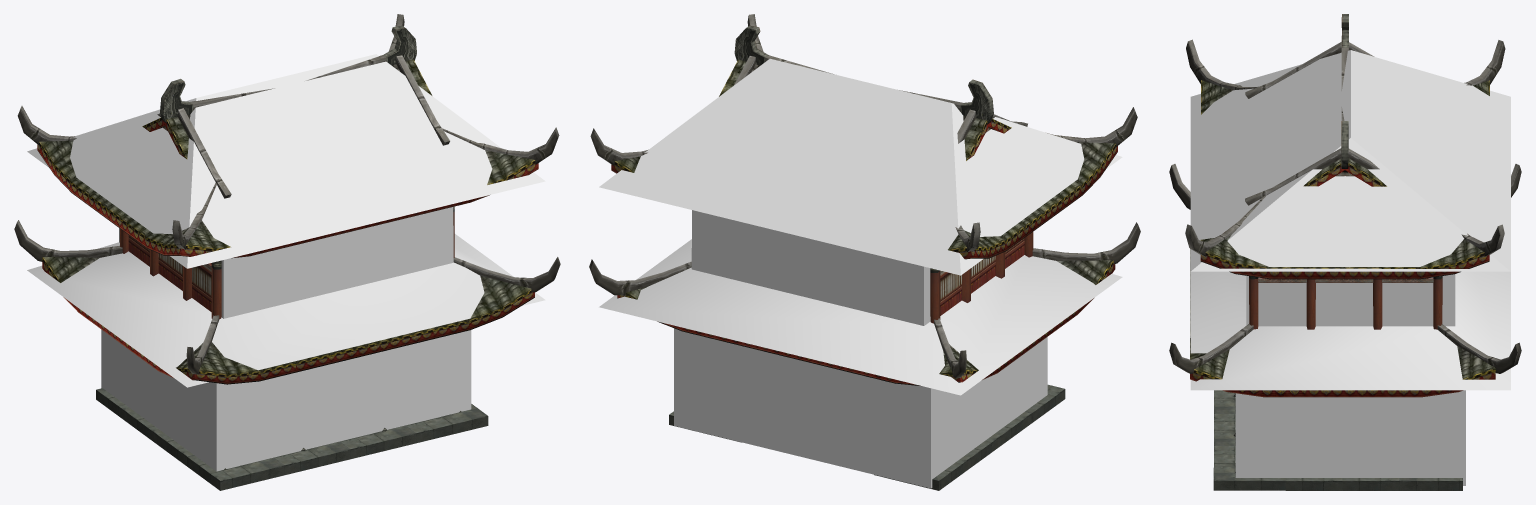
The model's file is YHJ_jiulou.FBX.
The picture shows the model from 3 angles, left to right: view 1: azimuth 30°, elevation 25°; view 2: azimuth 150°, elevation 25°; view 3: azimuth 270°, elevation 25°; orthographic projection.
Parts seen in each view (by area): view 1: YHJ_jiulou-col, YHJ_jiulou; view 2: YHJ_jiulou-col, YHJ_jiulou; view 3: YHJ_jiulou-col, YHJ_jiulou.
Part boxes in pixels (x1,y1,x2,y2): YHJ_jiulou-col: (27,54,545,471); YHJ_jiulou: (14,14,560,490); YHJ_jiulou-col: (599,58,1122,488); YHJ_jiulou: (589,14,1140,490); YHJ_jiulou-col: (1190,50,1510,485); YHJ_jiulou: (1169,14,1521,490).
Size of the model in its own units: 20.31 by 17.86 by 16.03.
